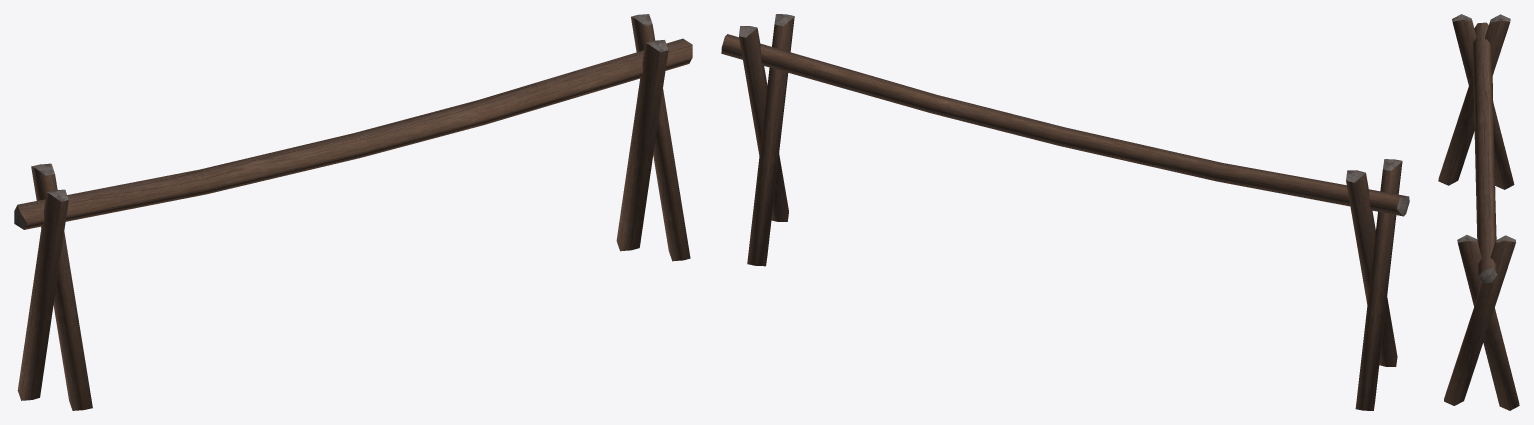
File: jov_rice_rag03a.fbx
The picture shows the model from 3 angles, left to right: view 1: azimuth 30°, elevation 25°; view 2: azimuth 150°, elevation 25°; view 3: azimuth 270°, elevation 25°; orthographic projection. The views are drawn at different scales.
Parts seen in each view (by area): view 1: jov_rice_rag03a; view 2: jov_rice_rag03a; view 3: jov_rice_rag03a.
Part boxes in pixels (x1,y1,x2,y2): jov_rice_rag03a: (14, 14, 692, 410); jov_rice_rag03a: (721, 14, 1409, 410); jov_rice_rag03a: (1438, 14, 1519, 410).
Size of the model in its own units: 333 by 109 by 46.15.
